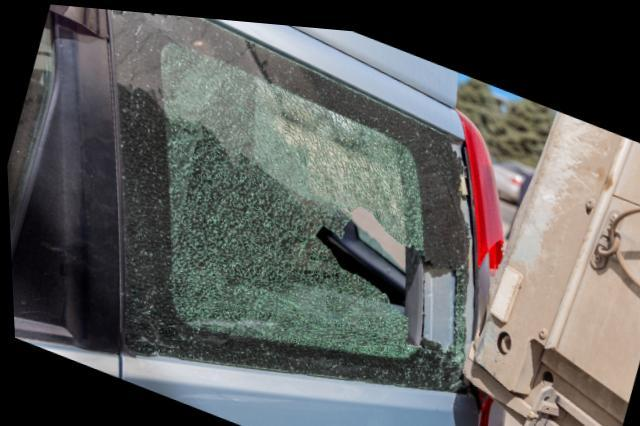glass shatter: (108, 8, 468, 385)
no part: (454, 100, 507, 426)
